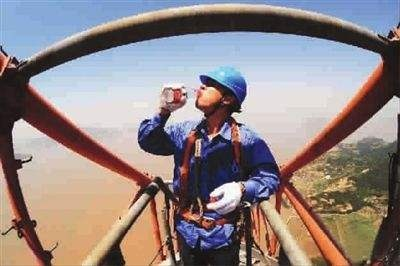blue: (192, 61, 247, 119)
